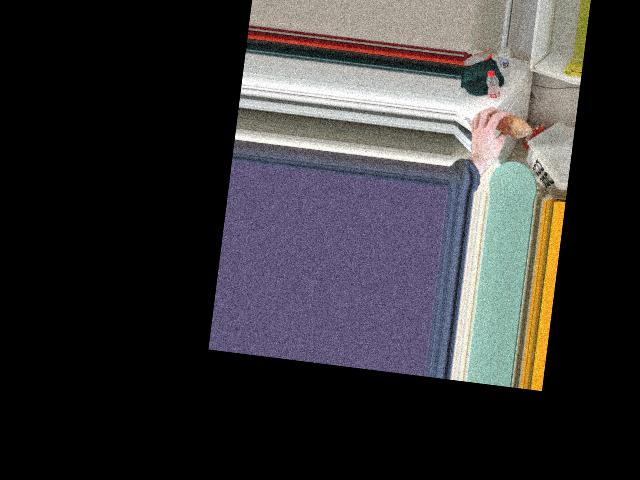sweet_potato: (481, 111, 532, 138)
